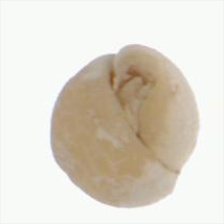L3: (101, 55, 153, 139)
L4: (49, 44, 199, 209)
